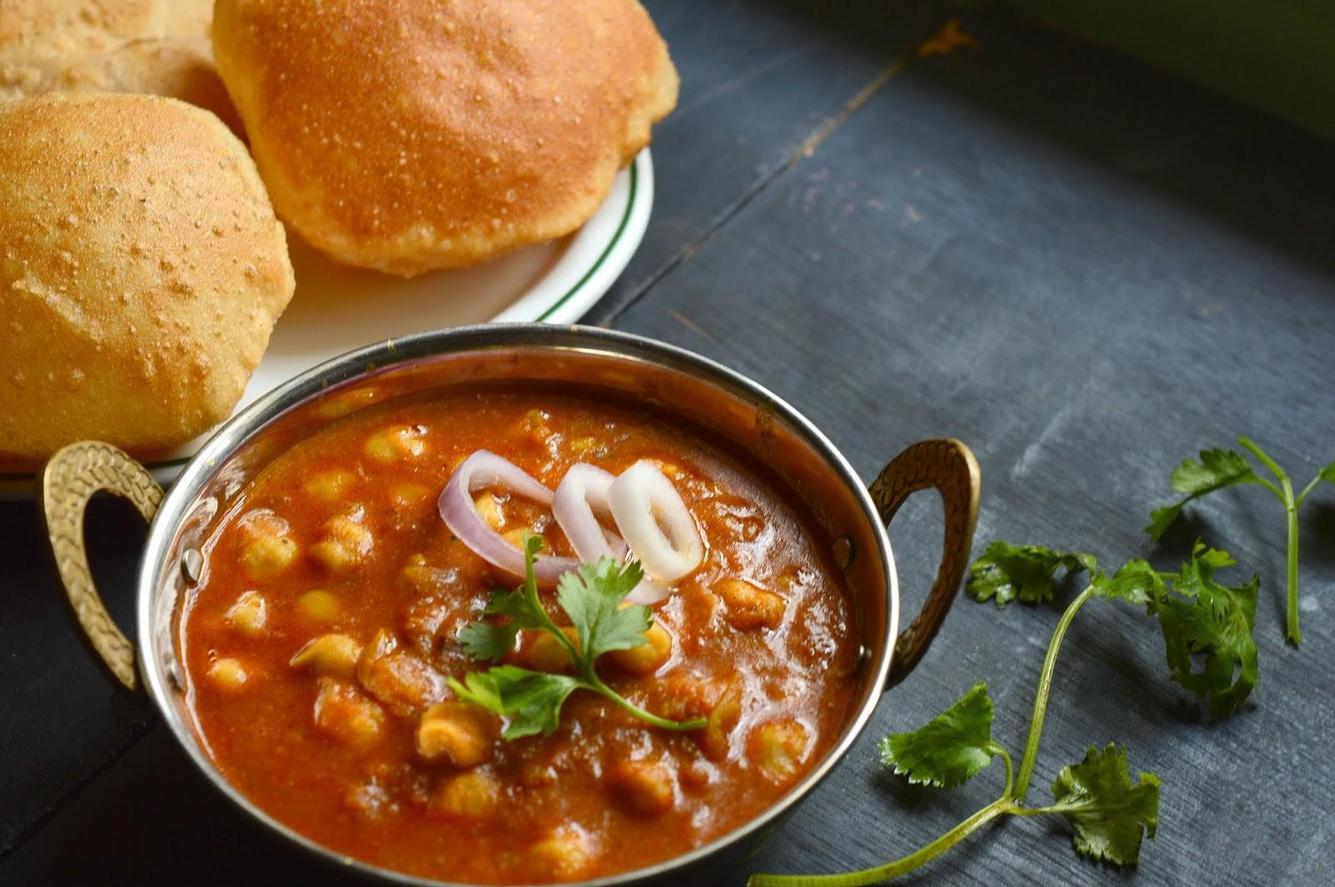Bhatura: (213, 0, 679, 274), (0, 93, 296, 477), (0, 0, 249, 145)
Chole: (156, 382, 862, 887)
